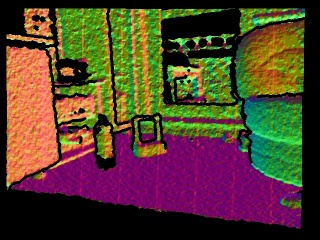station: (132, 113, 167, 159)
